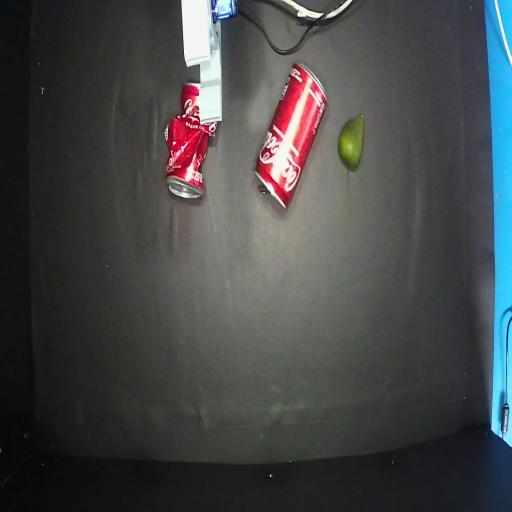higo: (338, 114, 363, 170)
lata: (255, 63, 326, 208)
lata_defectuoso: (165, 83, 217, 198)
